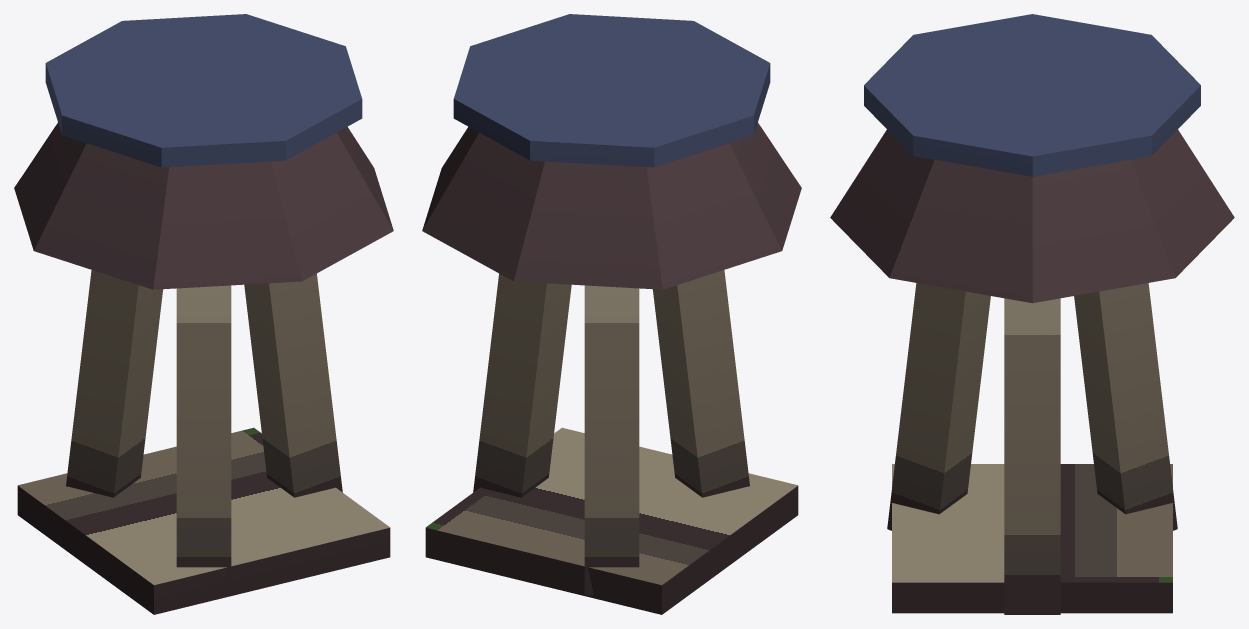
File: brazier.glb
3 views of the same model, side by side, from view 1: azimuth 30°, elevation 25°; view 2: azimuth 150°, elevation 25°; view 3: azimuth 270°, elevation 25° (orthographic). The views are drawn at different scales.
Visible parts, largest first — view 1: brazier; view 2: brazier; view 3: brazier.
Boxes of the visible parts, bbox=[...] form: brazier: bbox=[14, 14, 393, 614]; brazier: bbox=[422, 14, 801, 614]; brazier: bbox=[830, 14, 1234, 614].
Size of the model in its own units: 0.72 by 0.926 by 0.72.
Materials: 2 (1 with a texture image).
